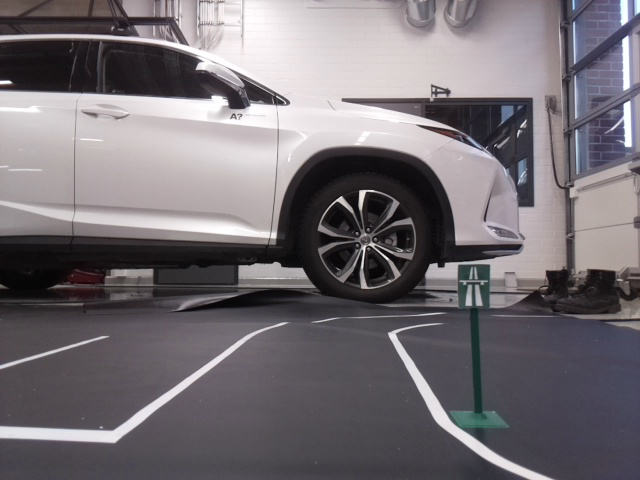HighwayEntrance: (458, 266, 488, 308)
